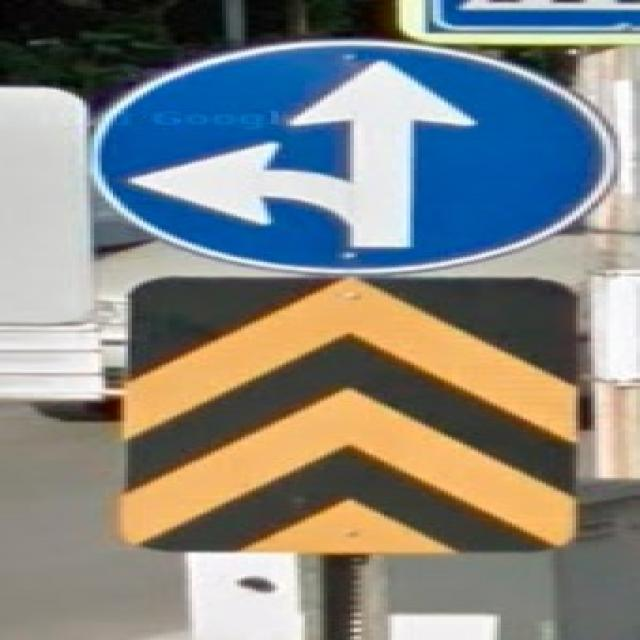Straight or Left: (86, 41, 617, 274)
